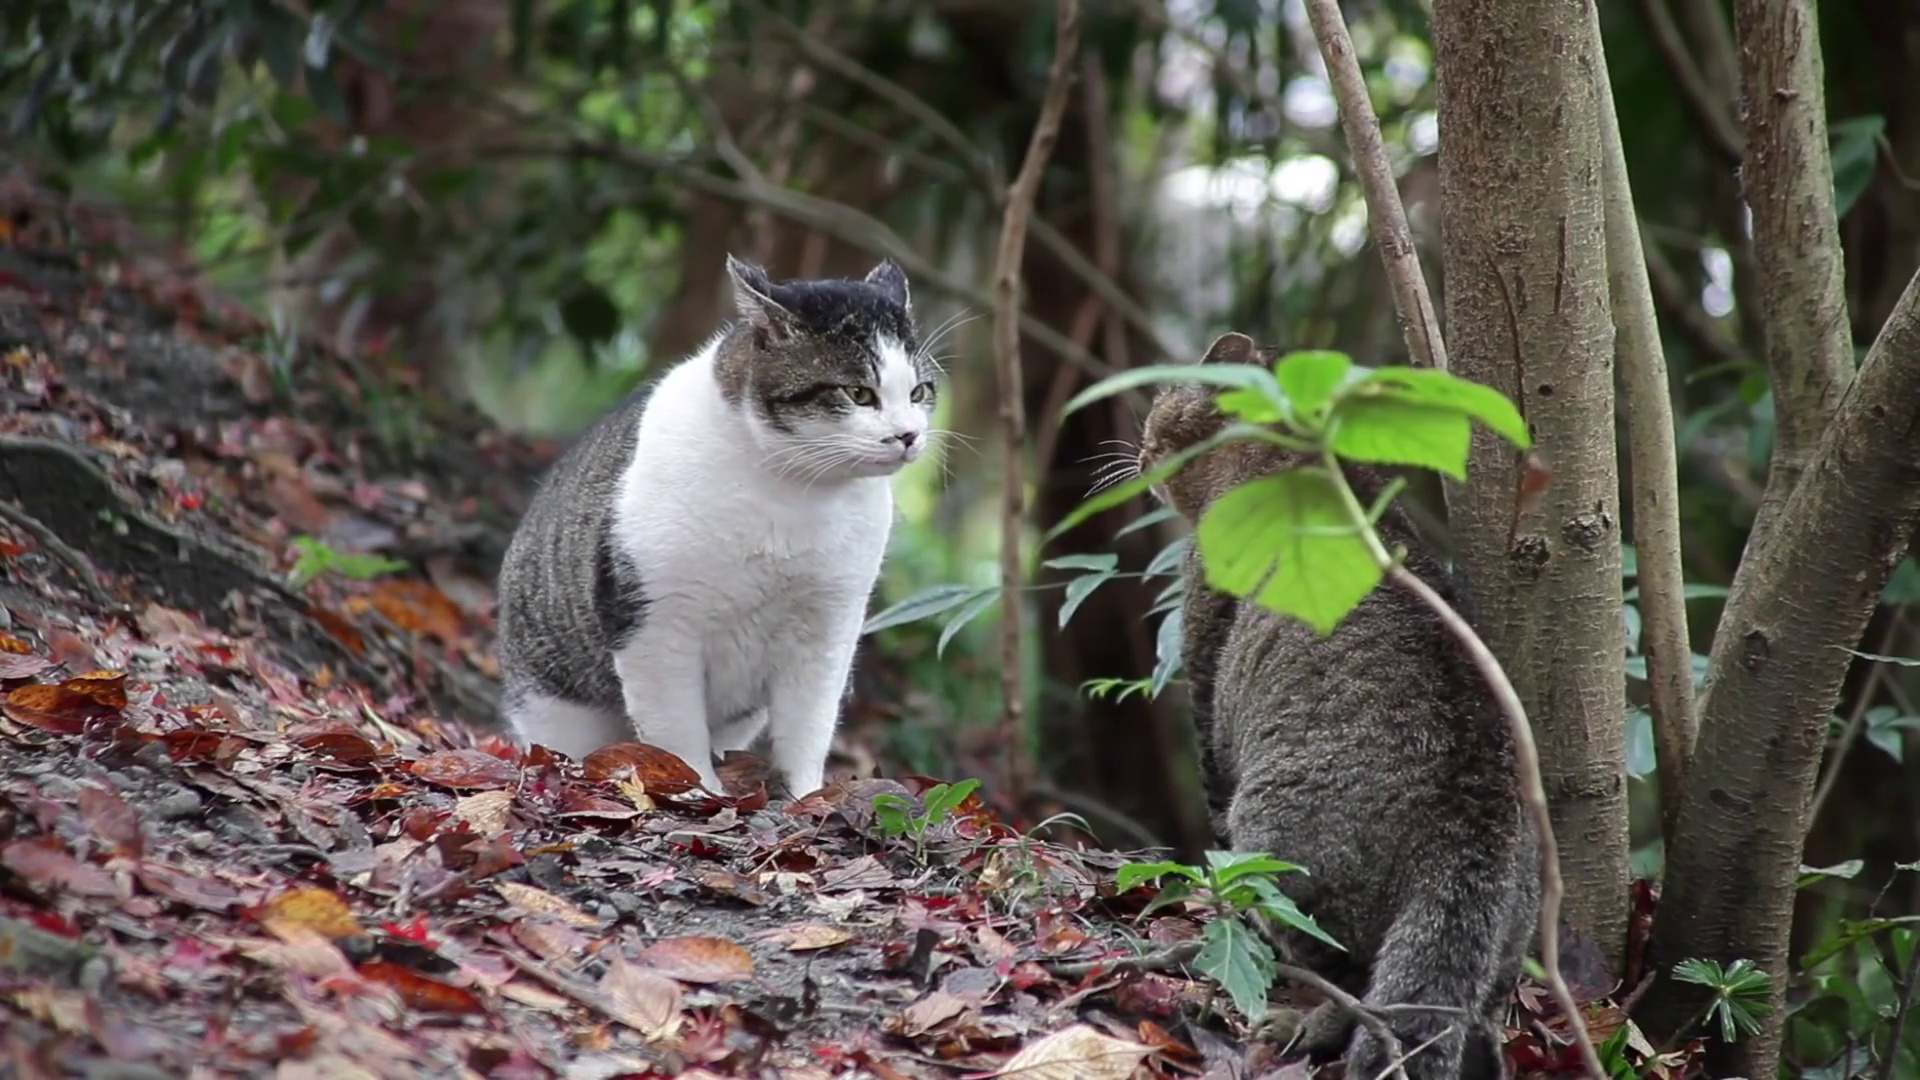black-white: (497, 255, 927, 800)
pure black: (1135, 330, 1547, 1080)
